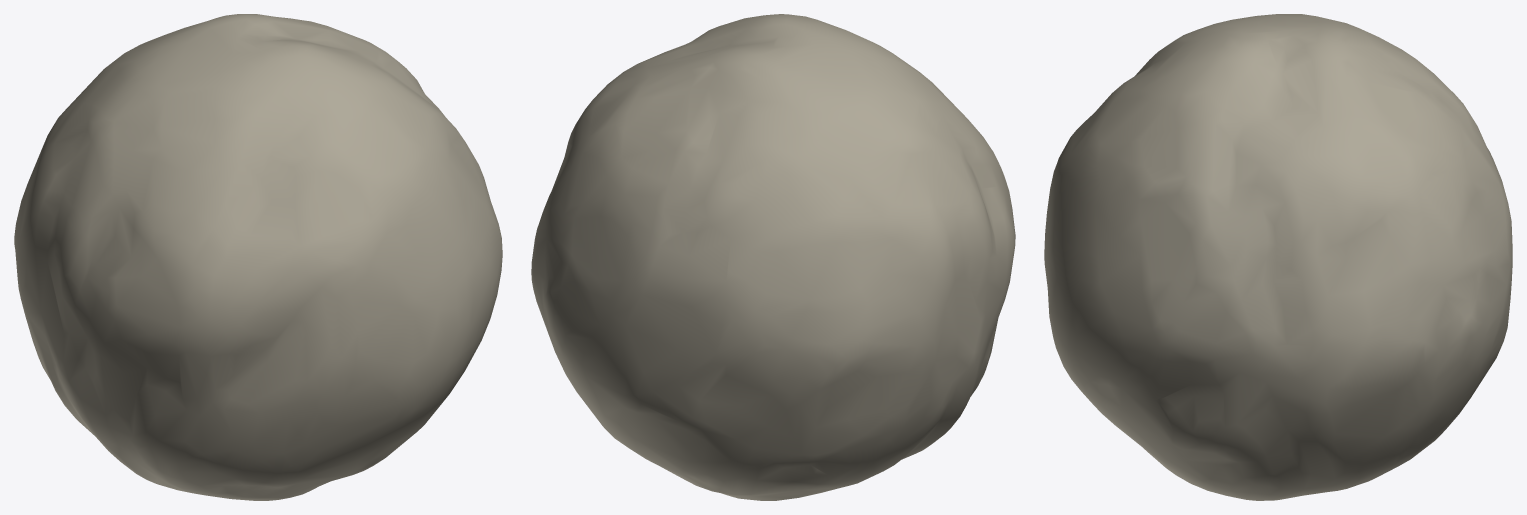
The model's file is rest_bubble.glb.
The picture shows the model from 3 angles, left to right: view 1: azimuth 30°, elevation 25°; view 2: azimuth 150°, elevation 25°; view 3: azimuth 270°, elevation 25°; orthographic projection.
Visible parts, largest first — view 1: world; view 2: world; view 3: world.
Boxes of the visible parts, x1,y1,x2,y2 form: world: (14,14,502,500); world: (531,14,1015,500); world: (1044,14,1512,500).
Size of the model in its own units: 0.9762 by 1 by 0.9682.
